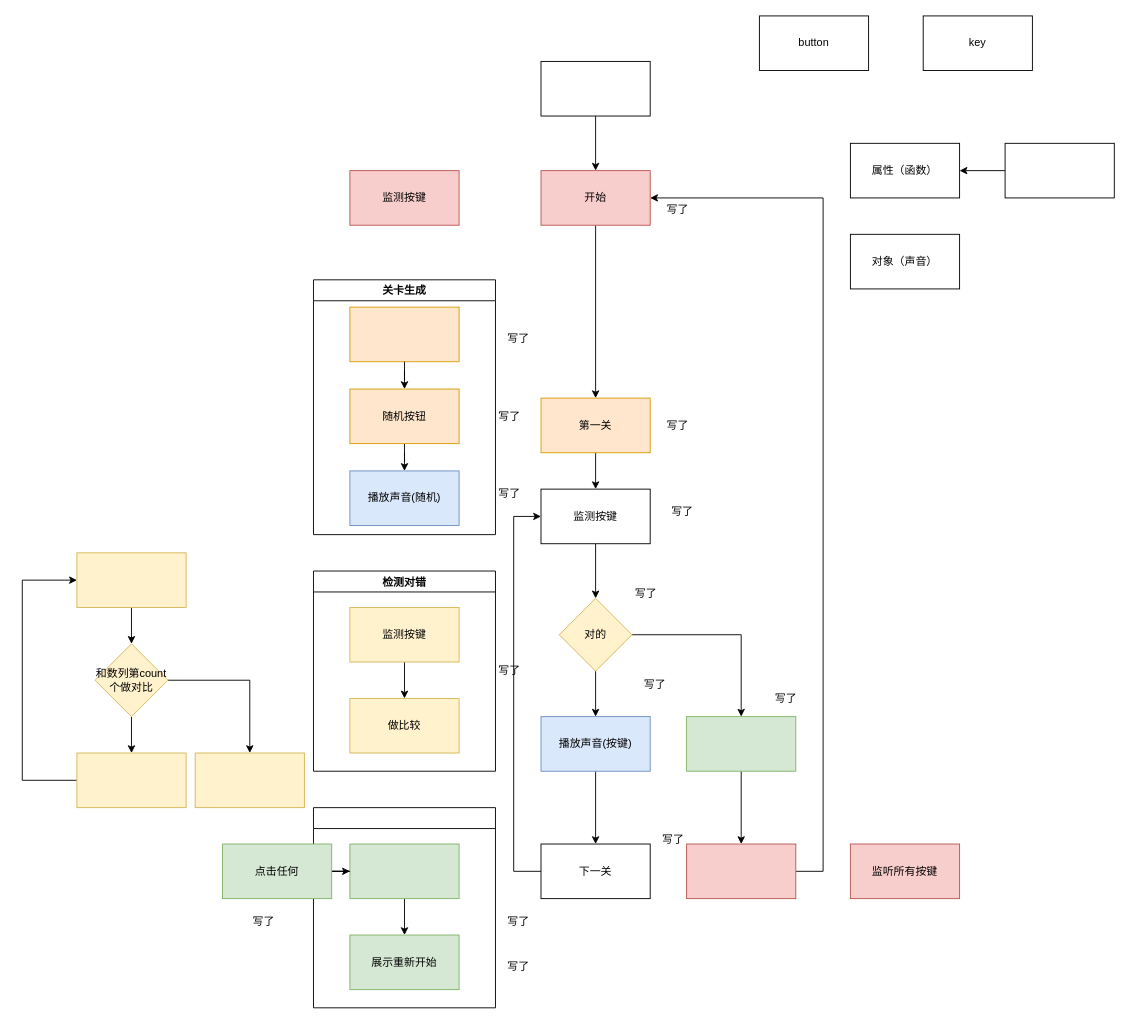
Image size: 1130x1024. Some labels were removed from this diagram. Here are the shapes that lost their labels. From the top down, the box of each, then its label:
(540, 61, 650, 116): 展示开始
(1004, 142, 1114, 198): 类（声音）
(349, 306, 459, 362): 展示关卡
(76, 552, 186, 607): 监测第count个
(686, 716, 796, 771): 错误模式
(76, 752, 186, 808): count+1
(194, 752, 304, 808): 结束function
(349, 843, 459, 899): 播放错误声音
(686, 843, 796, 899): 重新开始
(313, 807, 495, 1008): 错误
